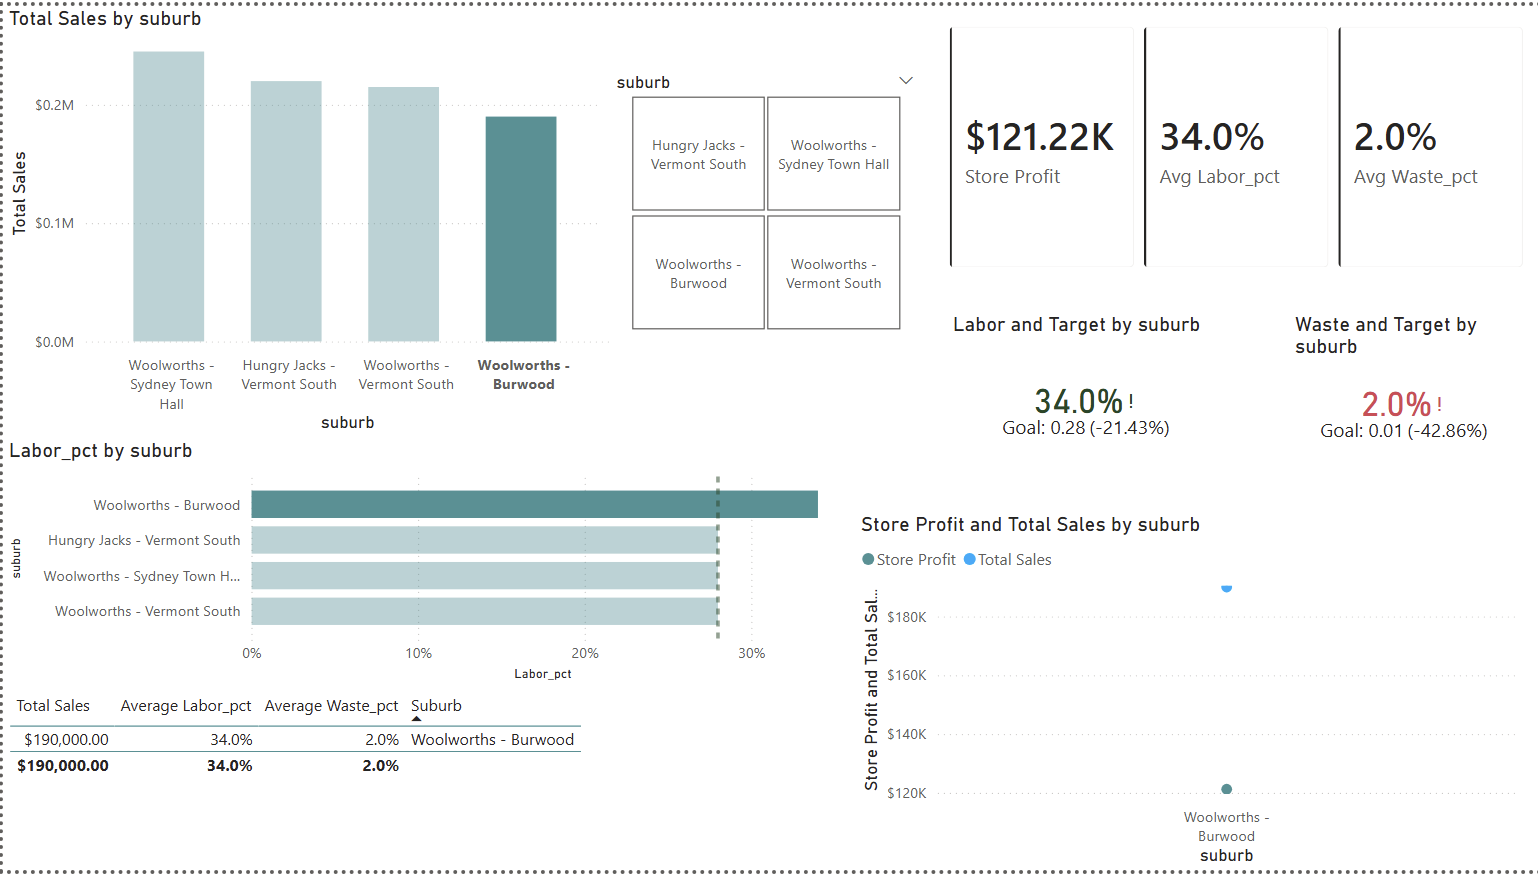

What the dashboard file says about the page in this screenshot:
{"tool":"powerbi","page":{"name":"Page 1","canvas":[1280,720],"ordinal":0},"visuals":[{"type":"clusteredColumnChart","fields":{"Category":["Store_Performance_Data copy.suburb"],"Y":["Sum(Store_Performance_Data copy.total_sales_aud)"]},"box":[0,0,510,360],"z":0},{"type":"clusteredBarChart","fields":{"Category":["Store_Performance_Data copy.suburb"],"Y":["Avg(Store_Performance_Data copy.labor_pct)"]},"box":[0,360,710,206.7],"z":1000},{"type":"tableEx","fields":{"Values":["Sum(Store_Performance_Data copy.total_sales_aud)","Avg(Store_Performance_Data copy.labor_pct)","Avg(Store_Performance_Data copy.waste_pct)","Store_Performance_Data copy.suburb"]},"box":[0,566.7,590,153.3],"z":1001},{"type":"cardVisual","fields":{"Data":["Store_Performance_Data copy.Store Profit","Avg(Store_Performance_Data copy.labor_pct)","Avg(Store_Performance_Data copy.waste_pct)"]},"box":[771.7,0,513.3,235],"z":1002},{"type":"kpi","fields":{"Indicator":["Avg(Store_Performance_Data copy.labor_pct)"],"TrendLine":["Store_Performance_Data copy.suburb"],"Goal":["Store_Performance_Data copy.Labor Target"]},"box":[786.7,255,231.7,150],"z":1003},{"type":"kpi","fields":{"Indicator":["Avg(Store_Performance_Data copy.waste_pct)"],"TrendLine":["Store_Performance_Data copy.suburb"],"Goal":["Store_Performance_Data copy.Waste Target"]},"box":[1071.7,255,191.7,136.7],"z":1004},{"type":"areaChart","fields":{"Category":["Store_Performance_Data copy.suburb"],"Y":["Store_Performance_Data copy.Store Profit","Sum(Store_Performance_Data copy.total_sales_aud)"]},"box":[710,421.7,555,298.3],"z":1005},{"type":"slicer","fields":{"Values":["Store_Performance_Data copy.suburb"]},"box":[498.3,50,273.3,226.7],"z":1006}]}

Visuals, with their boxes in screenshot pixels (x1, y1, x2, y2), scaled from the page's 1280x720 canvas onto the 1538x874 screenshot:
clusteredColumnChart - Store_Performance_Data copy.suburb x Sum(Store_Performance_Data copy.total_sales_aud): detection(0, 0, 613, 437)
clusteredBarChart - Store_Performance_Data copy.suburb x Avg(Store_Performance_Data copy.labor_pct): detection(0, 437, 853, 688)
tableEx - Sum(Store_Performance_Data copy.total_sales_aud) x Avg(Store_Performance_Data copy.labor_pct): detection(0, 688, 709, 873)
cardVisual - Store_Performance_Data copy.Store Profit x Avg(Store_Performance_Data copy.labor_pct): detection(927, 0, 1537, 285)
kpi - Avg(Store_Performance_Data copy.labor_pct) x Store_Performance_Data copy.suburb: detection(945, 310, 1224, 492)
kpi - Avg(Store_Performance_Data copy.waste_pct) x Store_Performance_Data copy.suburb: detection(1288, 310, 1518, 475)
areaChart - Store_Performance_Data copy.suburb x Store_Performance_Data copy.Store Profit: detection(853, 512, 1520, 873)
slicer - Store_Performance_Data copy.suburb: detection(599, 61, 927, 336)
